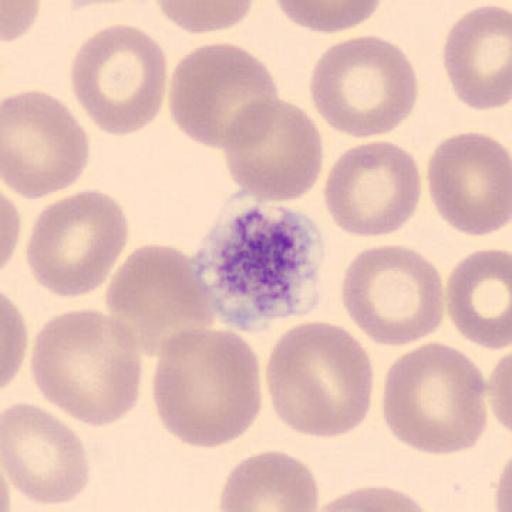Platelet: (195, 200, 327, 332)
RBC: (150, 326, 262, 450), (29, 307, 143, 428), (103, 242, 217, 363), (264, 320, 376, 440), (167, 41, 281, 151), (381, 341, 489, 456), (308, 33, 419, 140), (24, 188, 130, 299), (68, 22, 168, 136), (219, 96, 324, 204), (340, 244, 445, 347), (322, 140, 422, 239), (2, 90, 90, 201), (1, 401, 91, 506), (426, 130, 511, 238), (442, 2, 512, 112), (446, 246, 512, 351), (218, 448, 320, 512), (273, 0, 384, 35), (307, 485, 441, 512), (152, 0, 255, 35), (0, 291, 28, 394), (488, 346, 512, 438), (1, 183, 22, 274), (2, 0, 42, 44), (492, 448, 512, 512), (493, 460, 512, 512), (0, 457, 13, 512)
